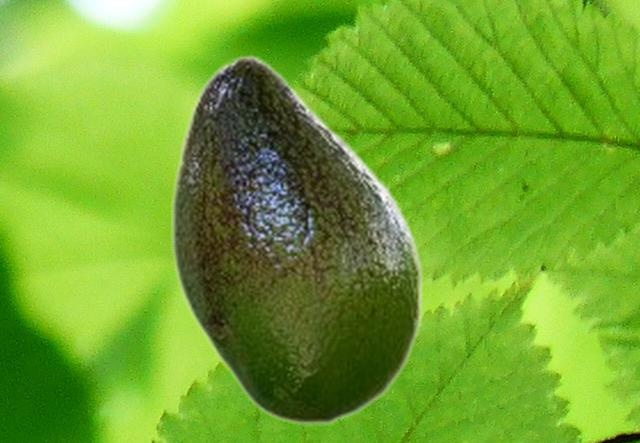avocado: (171, 54, 423, 424)
